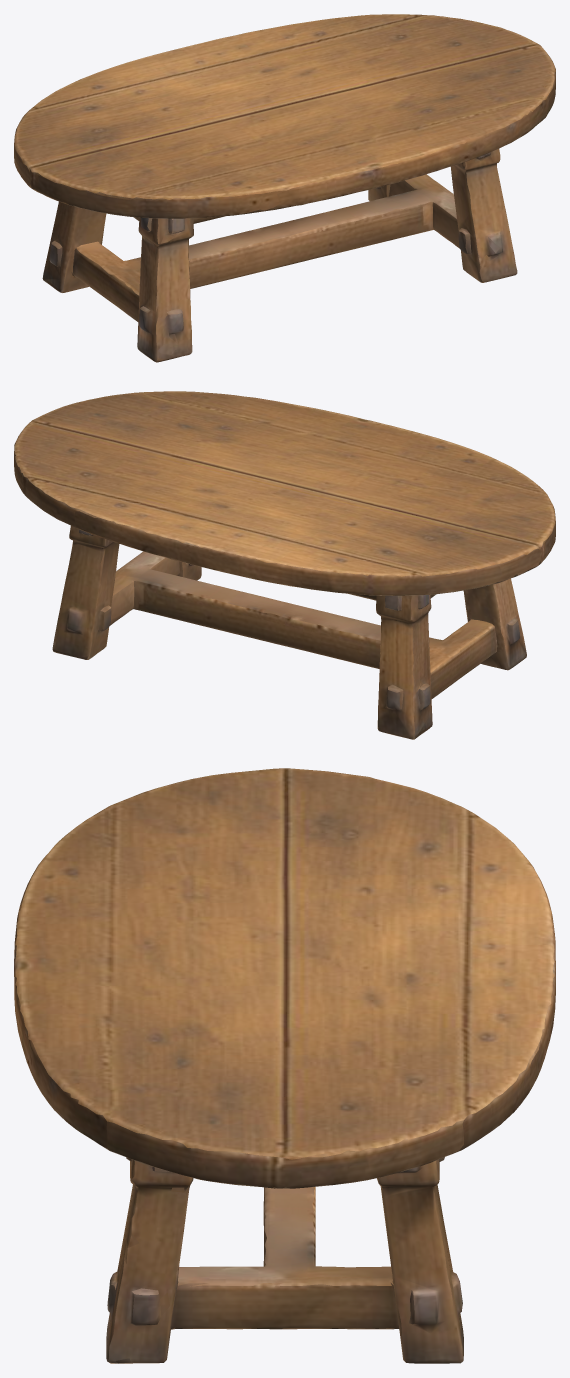
3 renders of one model, top to bottom at view 1: azimuth 30°, elevation 25°; view 2: azimuth 150°, elevation 25°; view 3: azimuth 270°, elevation 25°, orthographic. The views are drawn at different scales.
Parts seen in each view (by area): view 1: geometry_0; view 2: geometry_0; view 3: geometry_0.
Boxes of the visible parts, bbox=[...] form: geometry_0: bbox=[14, 14, 555, 362]; geometry_0: bbox=[14, 391, 555, 739]; geometry_0: bbox=[14, 768, 555, 1363].
Size of the model in its own units: 1.2 by 0.3849 by 0.7037.
Materials: 1 (1 with a texture image).
